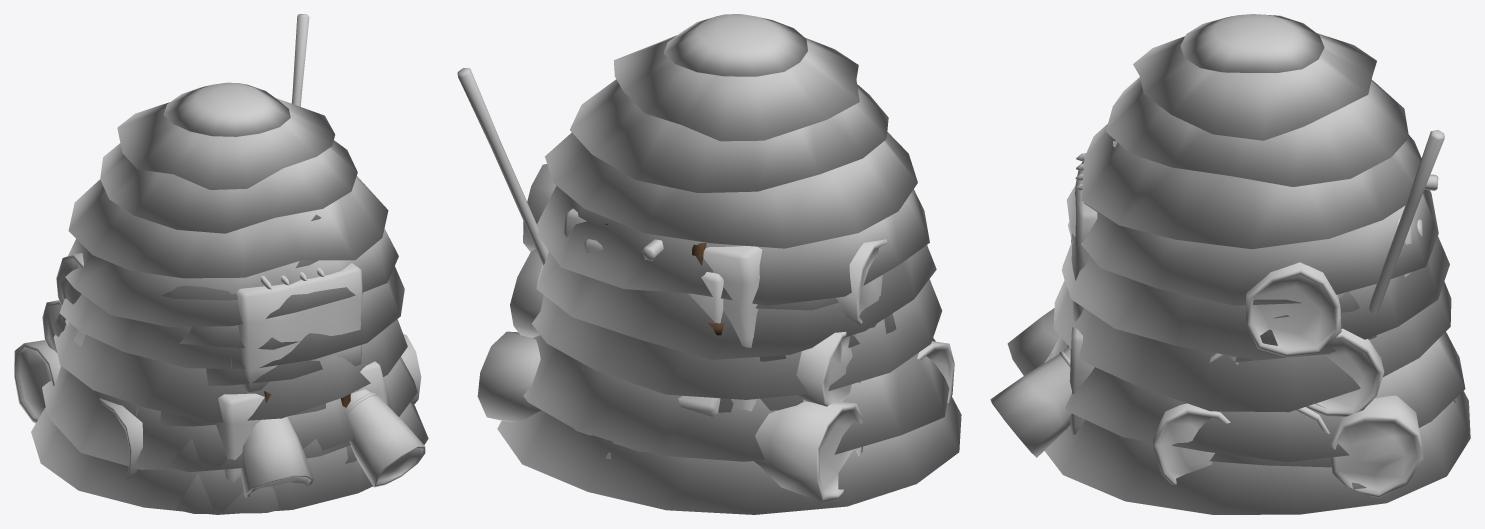
Rendered from haybales.fbx.
The picture shows the model from 3 angles, left to right: view 1: azimuth 30°, elevation 25°; view 2: azimuth 150°, elevation 25°; view 3: azimuth 270°, elevation 25°; orthographic projection. The views are drawn at different scales.
Parts seen in each view (by area): view 1: haystack.001, thatch, haybale.007, haystack, haybale.002, pitchfork.002; view 2: haystack.001, thatch, haybale.012, pitchfork.002, haystack, haybale.009, haybale.003; view 3: haystack.001, thatch, pitchfork.002, haybale.007, haystack, haybale.002.
Part boxes in pixels (x1,y1,x2,y2): haystack.001: [31, 82, 428, 514]; thatch: [14, 253, 425, 497]; haybale.007: [236, 263, 362, 392]; haystack: [65, 285, 350, 513]; haybale.002: [216, 361, 387, 482]; pitchfork.002: [291, 14, 309, 106]; haystack.001: [497, 14, 961, 514]; thatch: [477, 164, 954, 501]; haybale.012: [563, 208, 762, 358]; pitchfork.002: [457, 68, 548, 265]; haystack: [574, 297, 935, 452]; haybale.009: [584, 239, 723, 335]; haybale.003: [583, 369, 720, 416]; haystack.001: [1044, 14, 1470, 514]; thatch: [990, 262, 1423, 497]; pitchfork.002: [1369, 130, 1444, 315]; haybale.007: [1071, 161, 1097, 321]; haystack: [1044, 222, 1376, 467]; haybale.002: [1067, 327, 1094, 435].
Size of the model in its own units: 273 by 247 by 259.
